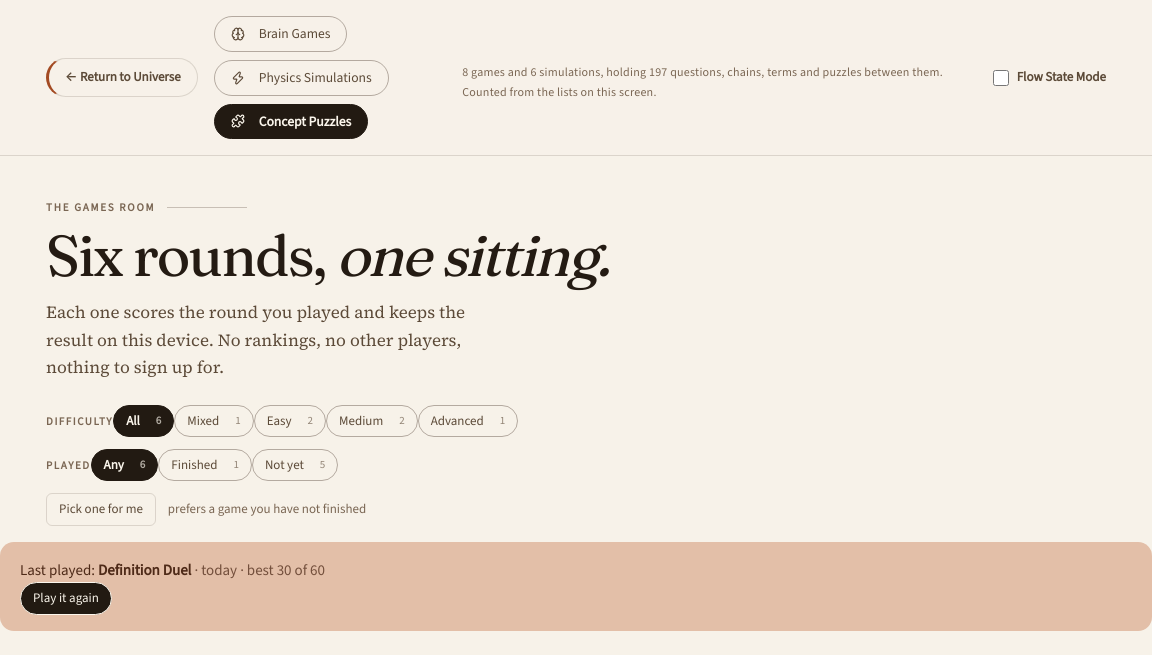
it: what each game has actually produced › the offer opens the game it names
Click the button "Play it again": coordinates (66, 598) [20,582,112,615]
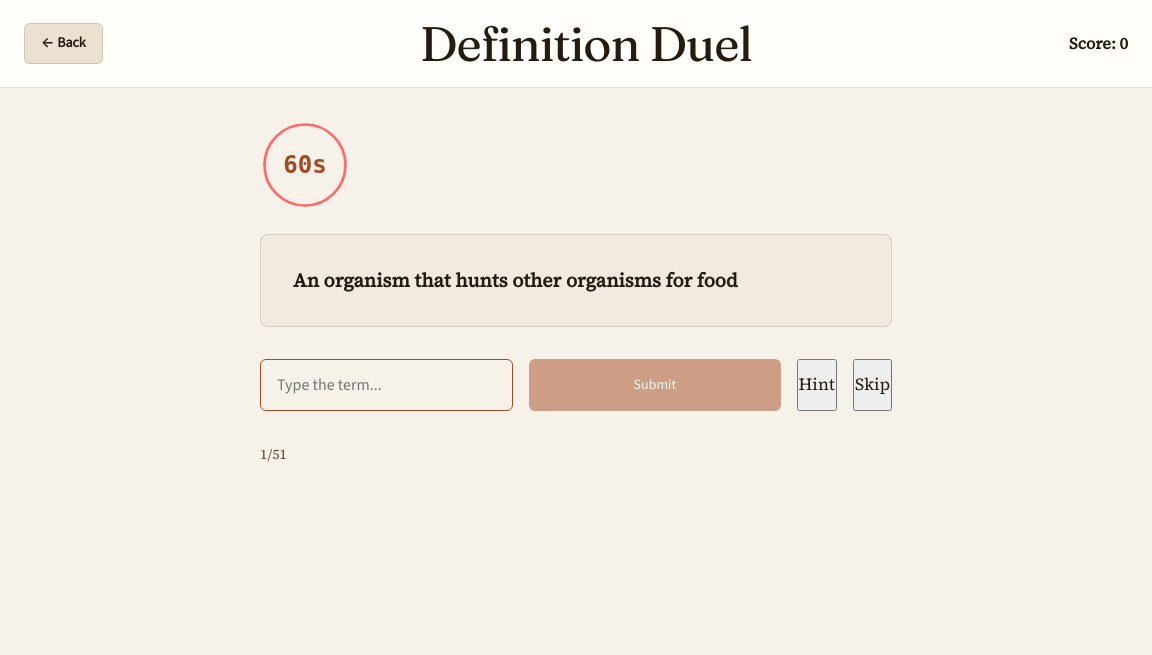
Expected: the heading "Definition Duel" is shown, [420,16,752,71]
Now the element with test id "games-resume" is gone
